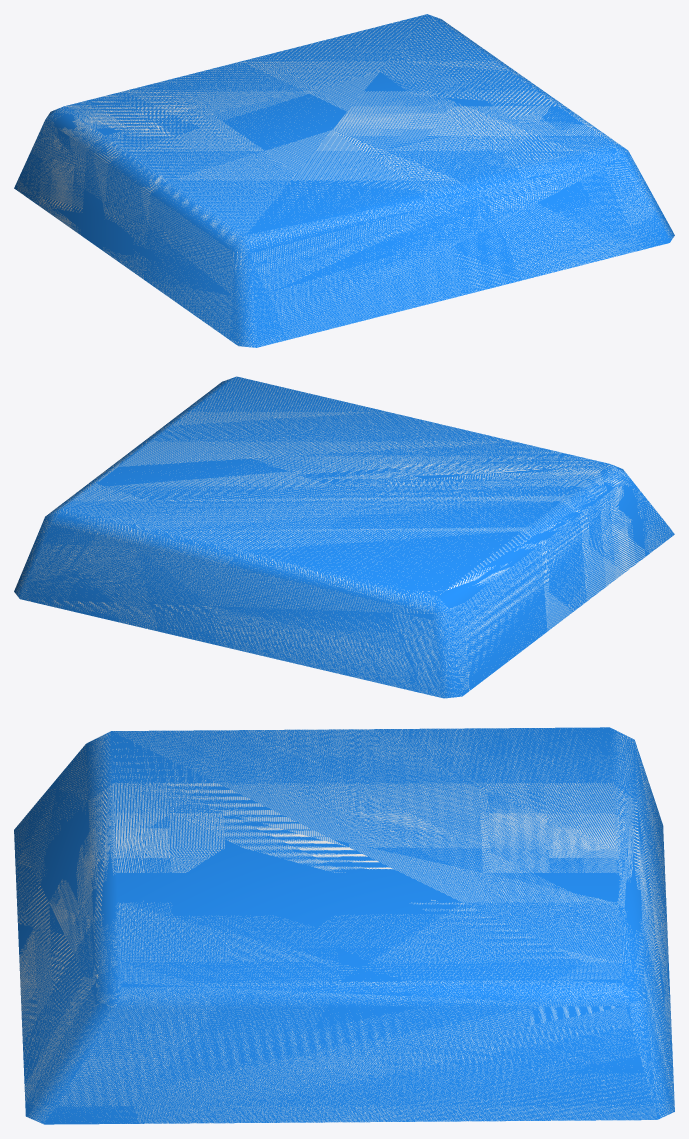
Rendered from original-33.obj.
3 renders of one model, top to bottom at view 1: azimuth 30°, elevation 25°; view 2: azimuth 150°, elevation 25°; view 3: azimuth 270°, elevation 25°, orthographic. The views are drawn at different scales.
Parts seen in each view (by area): view 1: mesh32/mesh32-geometry#mesh32-geometry; view 2: mesh32/mesh32-geometry#mesh32-geometry; view 3: mesh32/mesh32-geometry#mesh32-geometry.
Boxes of the visible parts, x1,y1,x2,y2 form: mesh32/mesh32-geometry#mesh32-geometry: (14, 14, 674, 347); mesh32/mesh32-geometry#mesh32-geometry: (14, 376, 674, 698); mesh32/mesh32-geometry#mesh32-geometry: (14, 727, 674, 1124).
Size of the model in its own units: 0.0691 by 0.0121 by 0.0628.
